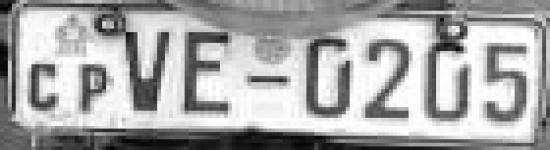-: (242, 68, 291, 90)
0: (299, 28, 357, 127), (422, 38, 476, 130)
2: (362, 30, 418, 126)
5: (480, 38, 537, 134)
C: (25, 60, 65, 113)
E: (180, 28, 239, 120)
P: (73, 60, 112, 113)
V: (117, 27, 179, 116)
